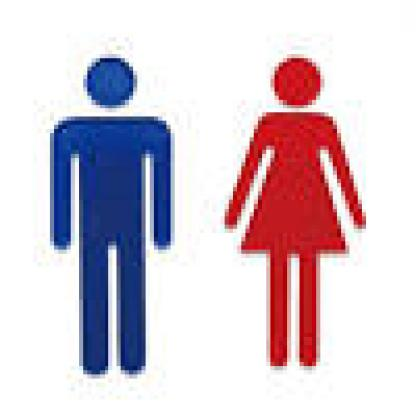toilet: (46, 43, 371, 376)
